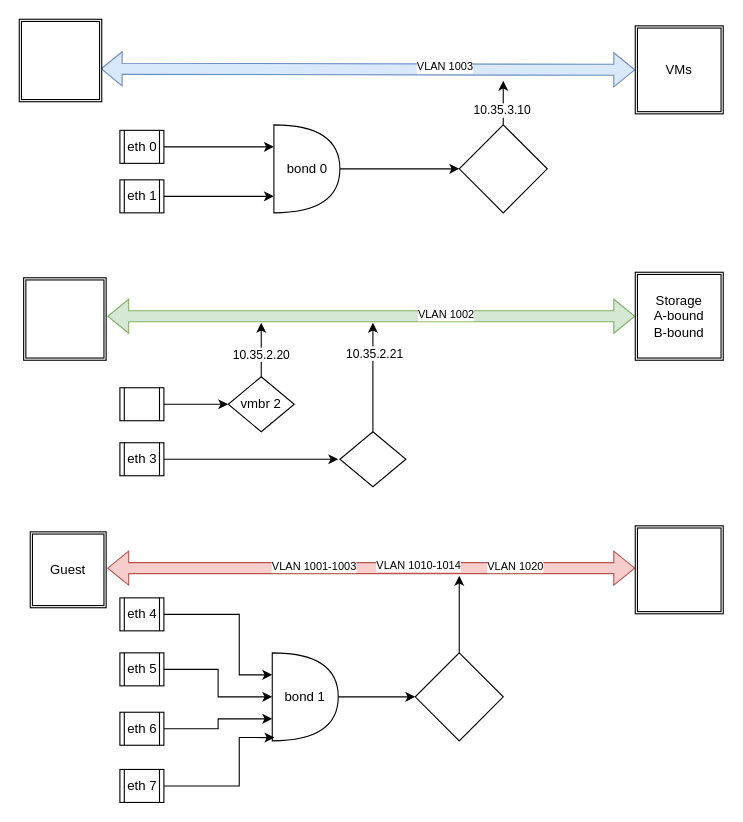
Some shapes in this 743 by 822 pixel diagram are drawn without their labels. Here are the shapes that lost their labels. From the top down, the centre of each, then its label:
At (x=60, y=60): "MGMT".
At (x=502, y=168): "vmbr 0".
At (x=64, y=318): "Storage".
At (x=141, y=404): "eth 2".
At (x=372, y=459): "vmbr 3".
At (x=678, y=569): "Trunk with VLAN Tagging".
At (x=458, y=696): "vmbr 4".
